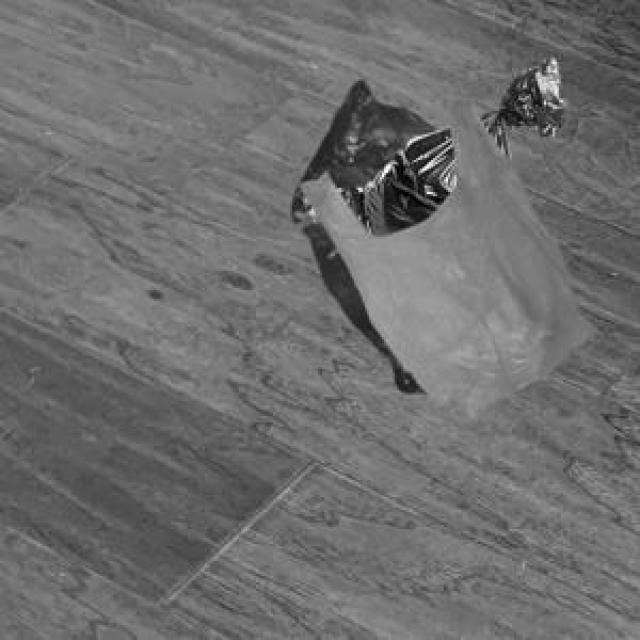miscellaneous trash: (333, 53, 563, 233)
